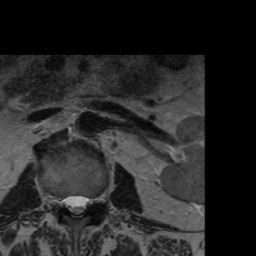CCS_normal: (71, 186, 79, 222)
LFS_stenosis: (89, 189, 98, 211)
LLS_normal: (80, 188, 89, 216)
RFS_normal: (54, 189, 62, 216)
RLS_normal: (62, 188, 71, 214)
